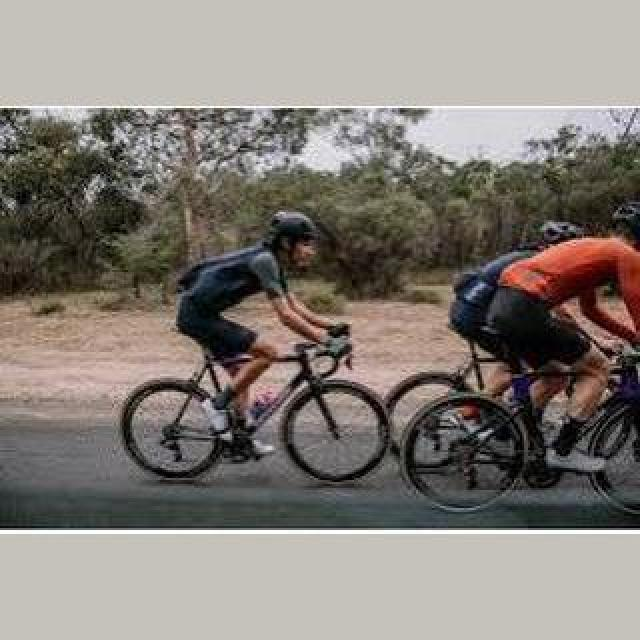MC-Bike: (174, 210, 352, 444), (450, 232, 640, 448)
Person: (392, 308, 640, 516), (119, 321, 393, 483)
